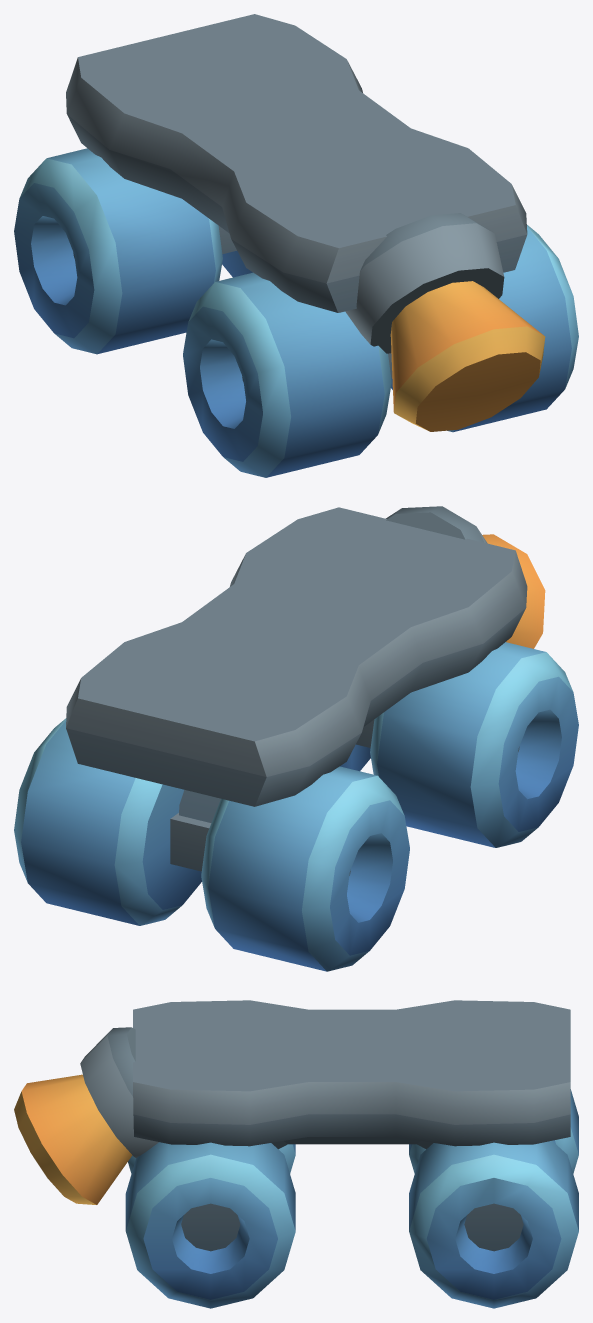
File: rollerskate_A.glb
3 views of the same model, one above another, from view 1: azimuth 30°, elevation 25°; view 2: azimuth 150°, elevation 25°; view 3: azimuth 270°, elevation 25° (orthographic). The views are drawn at different scales.
Parts seen in each view (by area): view 1: rollerskate_A; view 2: rollerskate_A; view 3: rollerskate_A.
Part boxes in pixels (bbox=[...]): rollerskate_A: bbox=[14, 14, 578, 477]; rollerskate_A: bbox=[14, 506, 578, 971]; rollerskate_A: bbox=[14, 1000, 578, 1308].
Bounding box in the file's own units: 0.27 × 0.2113 × 0.4987.
1 material, 1 textured.
